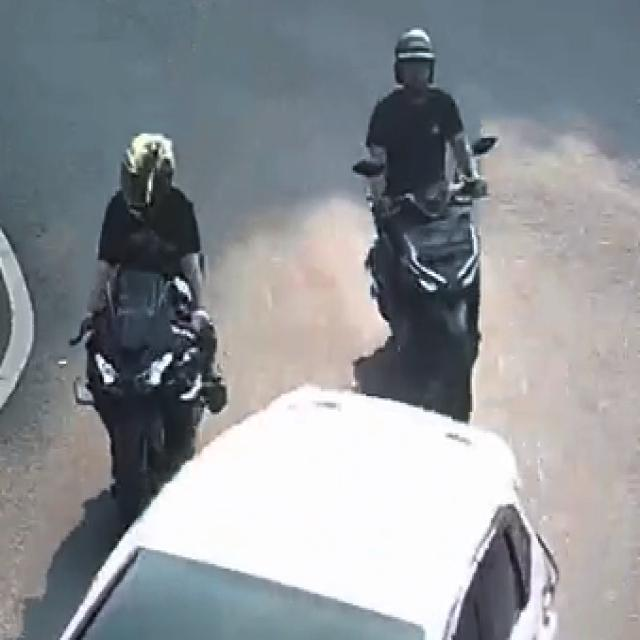helm: (116, 128, 182, 228), (389, 28, 439, 91)
motor: (65, 133, 230, 522), (348, 27, 505, 419)
spion: (342, 153, 396, 196), (441, 134, 500, 167)
